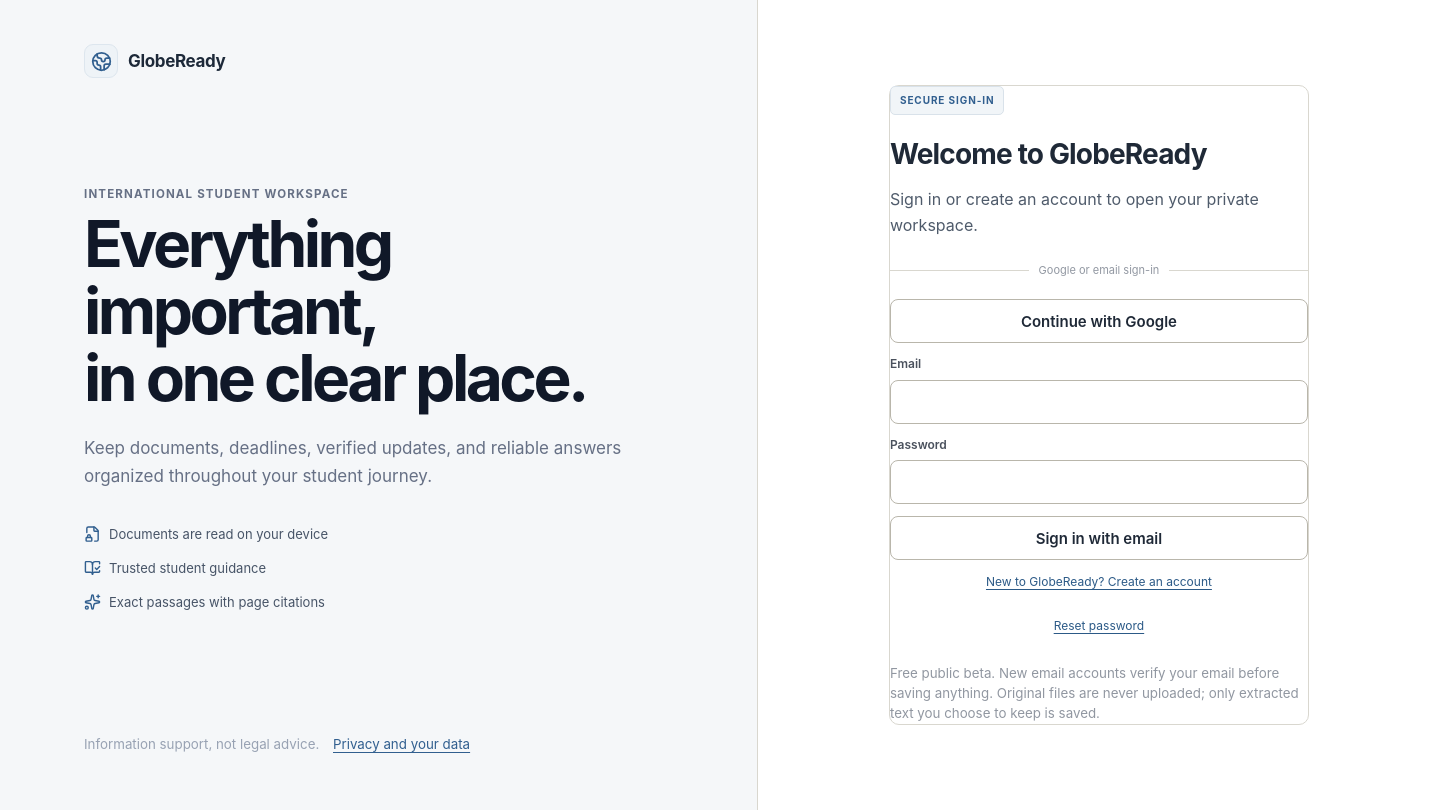
Test: reset password confirms without revealing whether the account exists, and asks for an email first
This screenshot has width=1440, height=810.
Click the button "Reset password" at (1099, 626), box [890,604,1308,648]
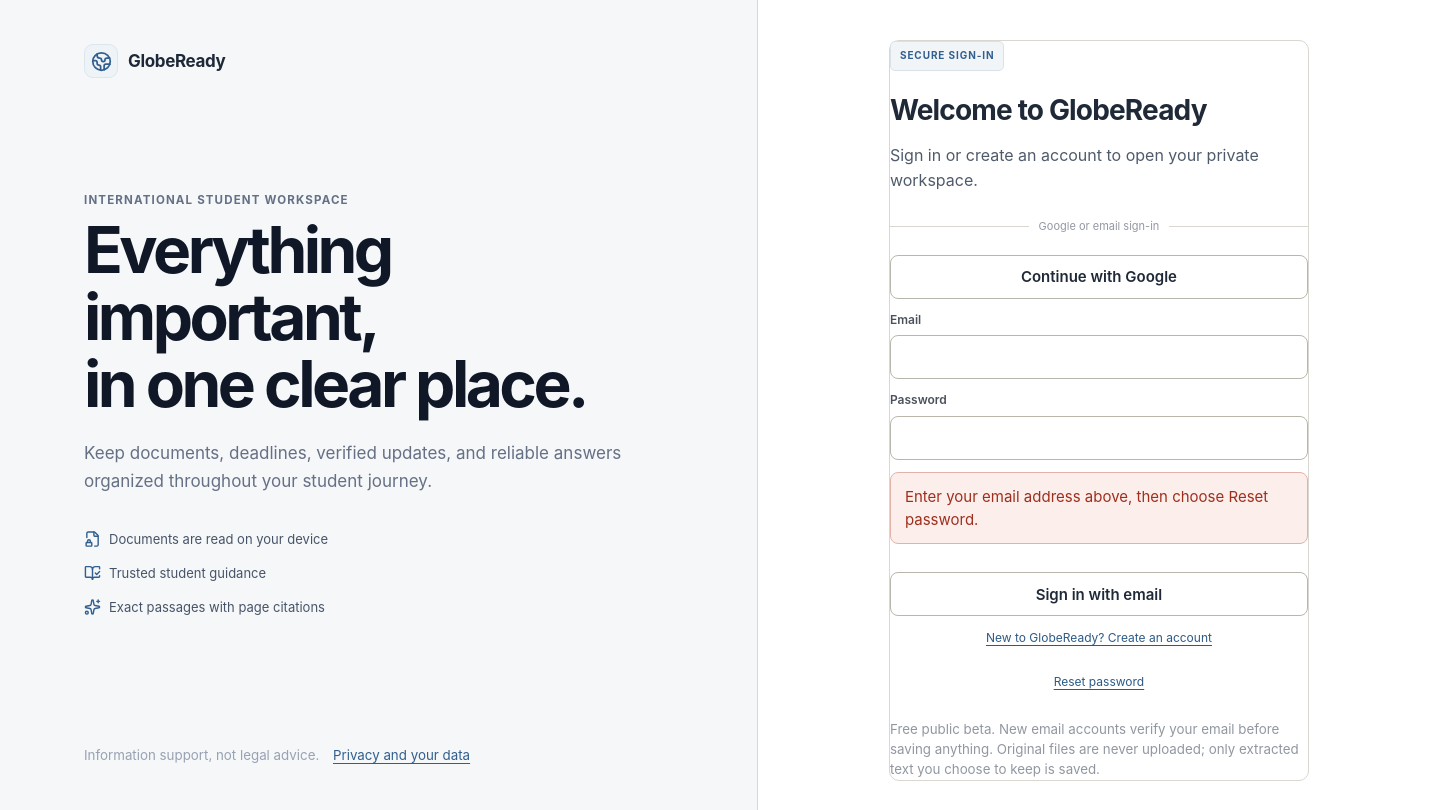
Expected: the message shows "Enter your email", [905,487,1268,529]
Type "maya@example.com" into the field labelled "Email" at (1099, 357), box [890,335,1308,379]
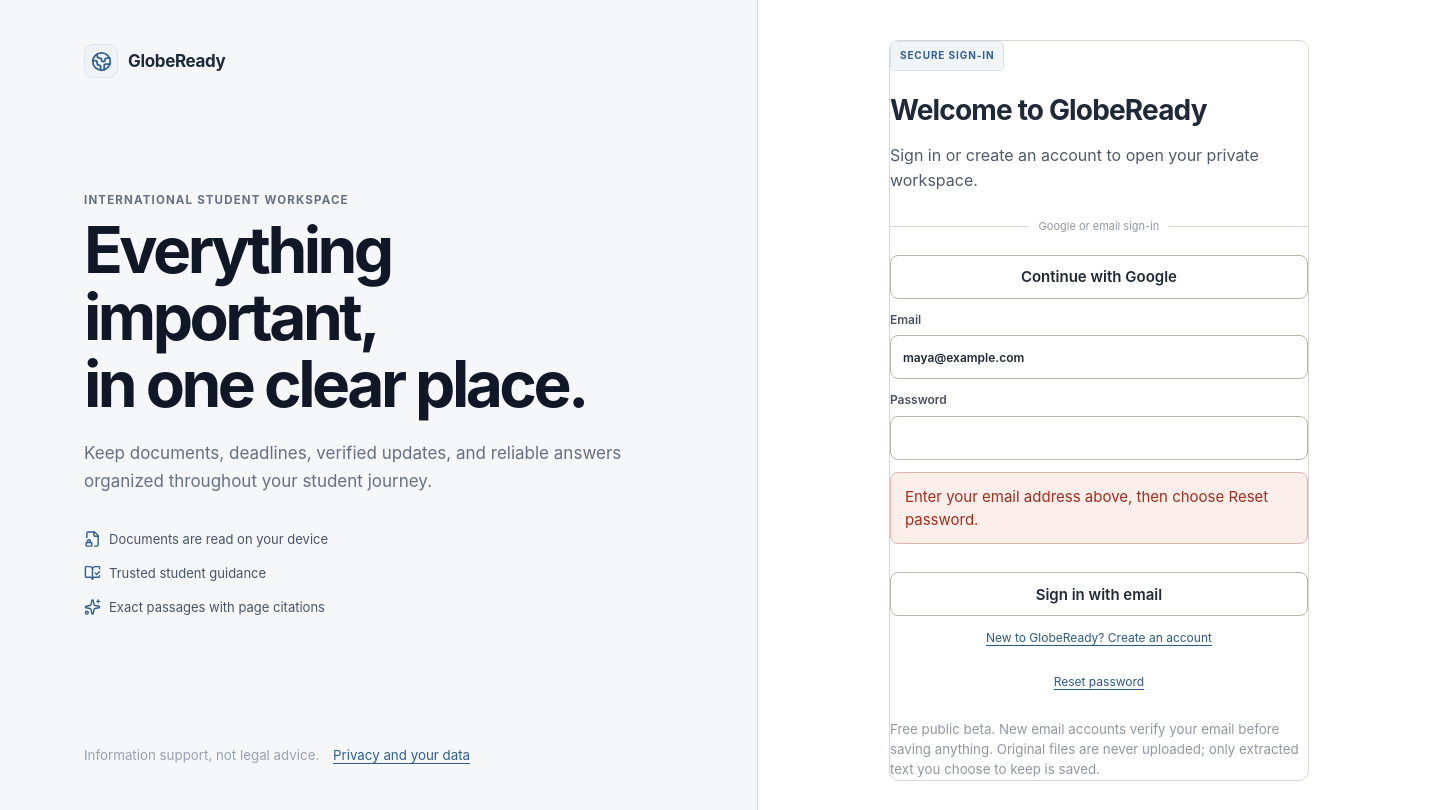
Click the button "Reset password" at (1099, 682), box [890,660,1308,704]
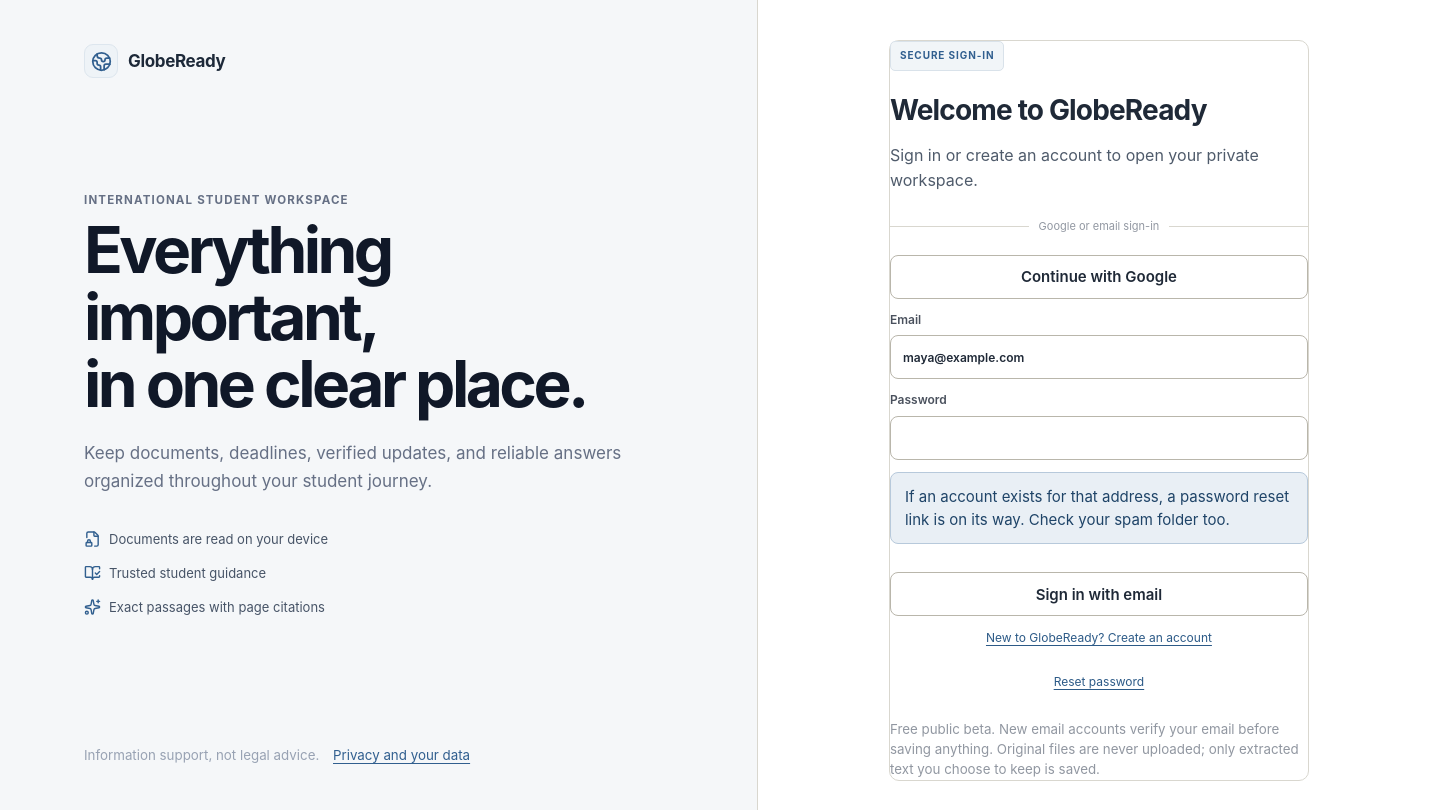
Expected: the message shows "If an account exists", [905,487,1289,529]
